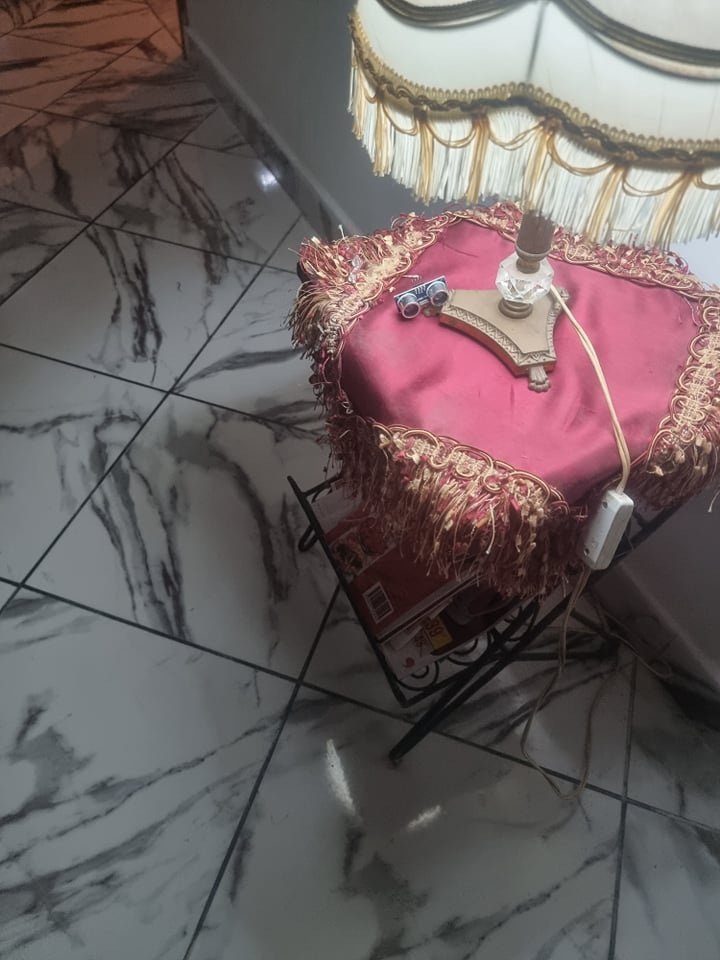SENSOR: (397, 277, 452, 318)
